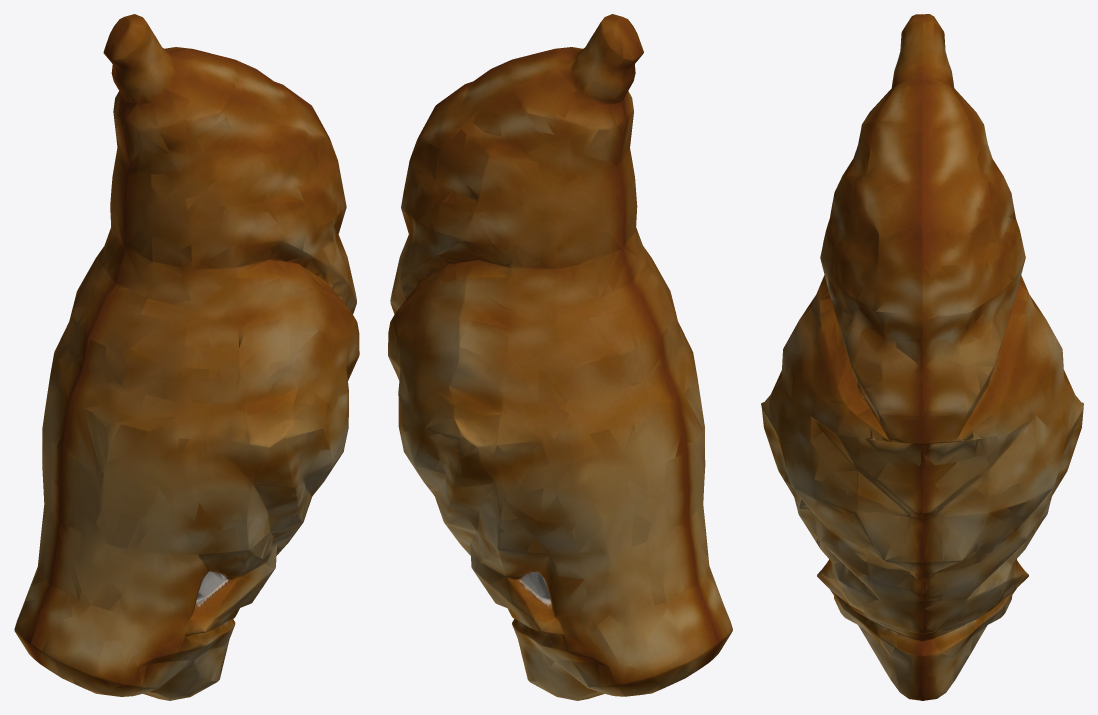
The model's file is caligo_modelos.fbx.
3 views of the same model, side by side, from view 1: azimuth 30°, elevation 25°; view 2: azimuth 150°, elevation 25°; view 3: azimuth 270°, elevation 25° (orthographic). The views are drawn at different scales.
Visible parts, largest first — view 1: tripo_node_4b1052fb; view 2: tripo_node_4b1052fb; view 3: tripo_node_4b1052fb.
Part boxes in pixels (left/top/right/bottom): tripo_node_4b1052fb: left=14, top=14, right=359, bottom=700; tripo_node_4b1052fb: left=388, top=14, right=732, bottom=700; tripo_node_4b1052fb: left=761, top=14, right=1083, bottom=700.
Size of the model in its own units: 1.32 by 2.81 by 1.25.
1 material, 1 textured.
